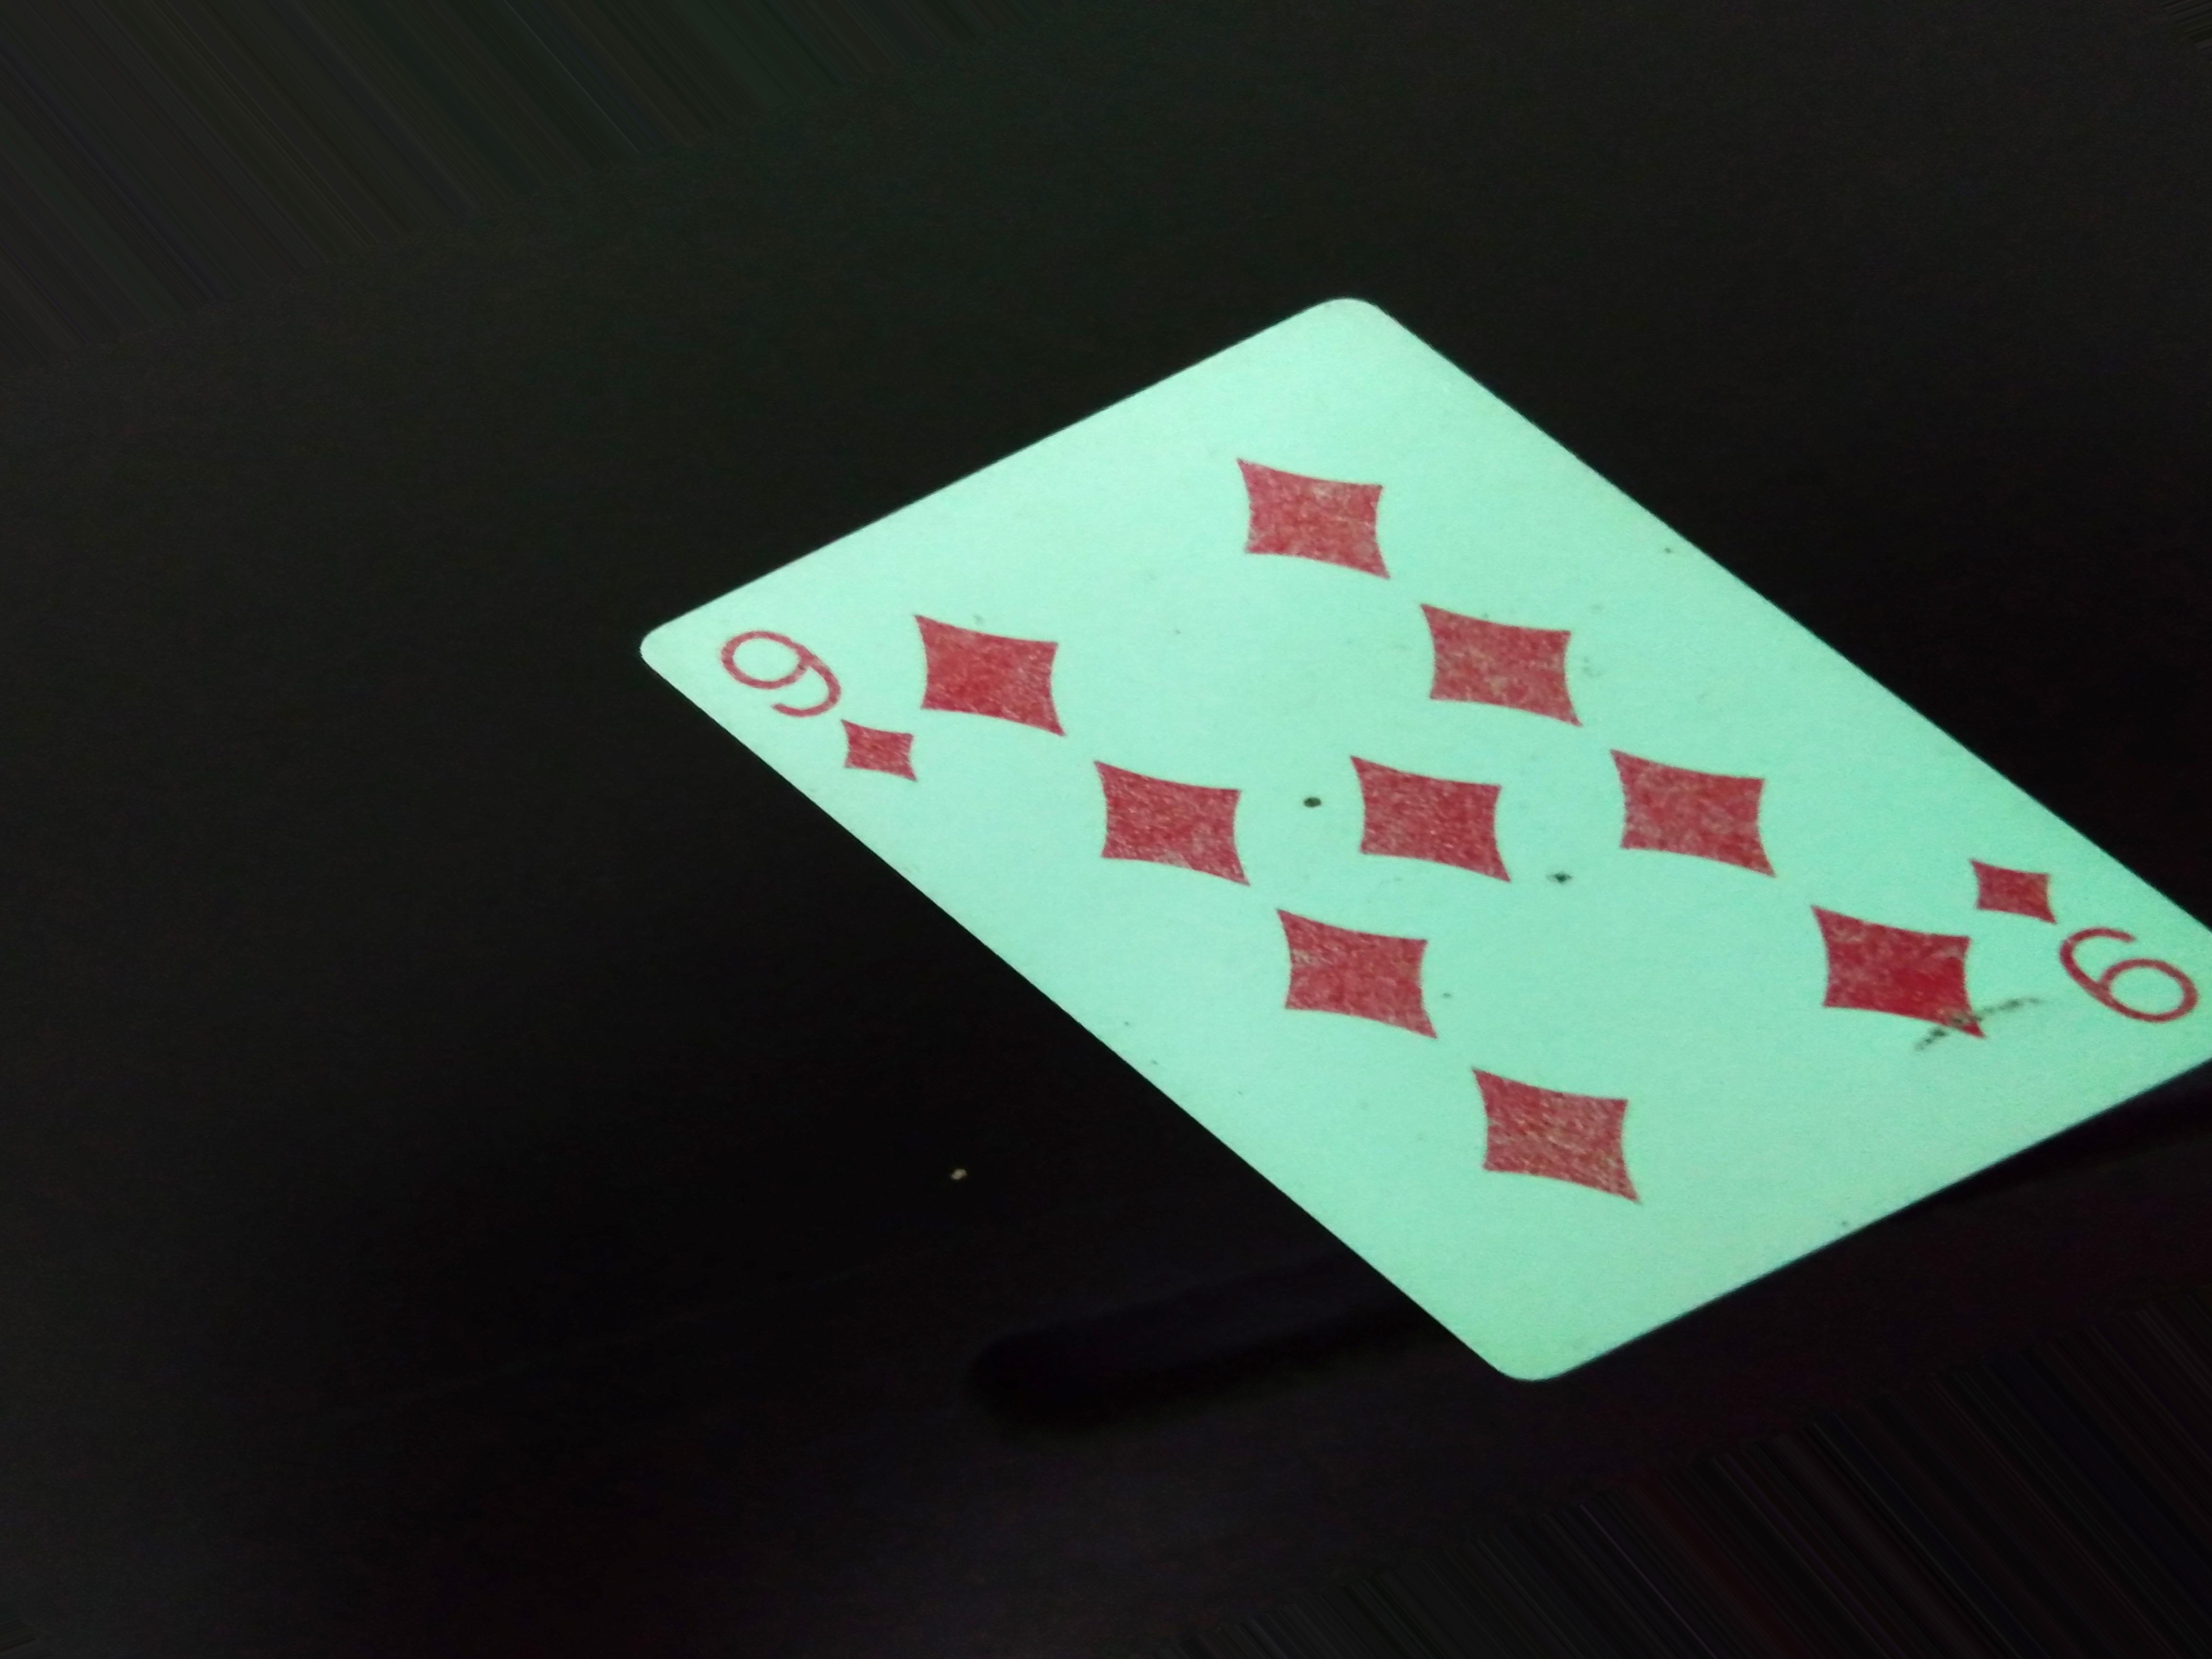9D: (1965, 812, 2200, 1093)
